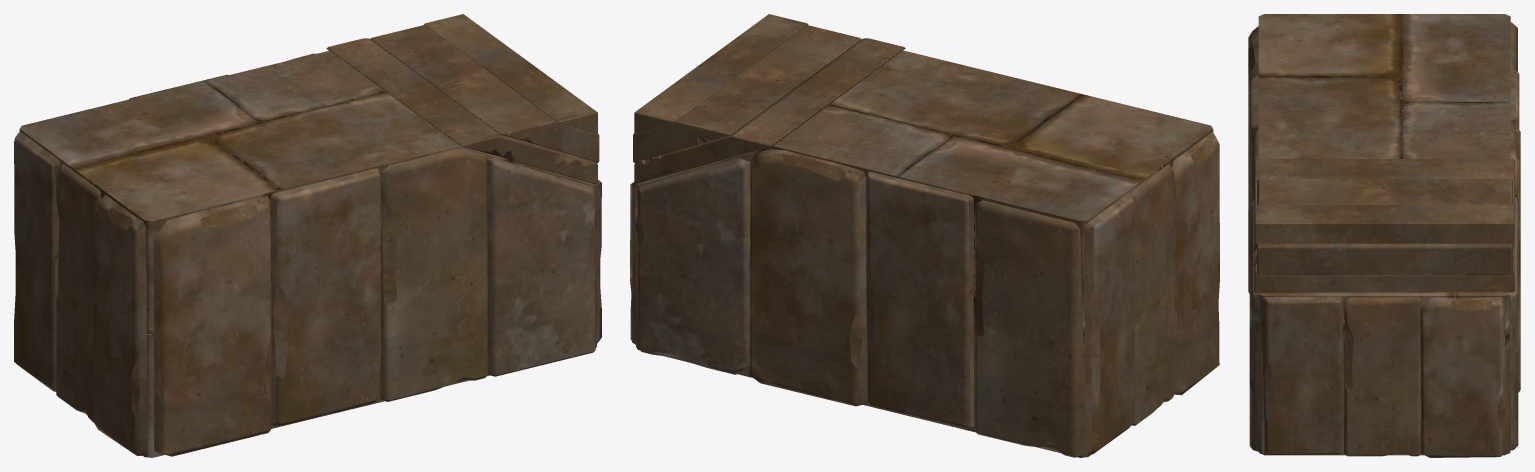
The picture shows the model from 3 angles, left to right: view 1: azimuth 30°, elevation 25°; view 2: azimuth 150°, elevation 25°; view 3: azimuth 270°, elevation 25°; orthographic projection. The views are drawn at different scales.
Visible parts, largest first — view 1: SM_Vault_2m_Stairs_Base_01_LOD0; view 2: SM_Vault_2m_Stairs_Base_01_LOD0; view 3: SM_Vault_2m_Stairs_Base_01_LOD0.
Part boxes in pixels (x1,y1,x2,y2): SM_Vault_2m_Stairs_Base_01_LOD0: (14,14,601,457); SM_Vault_2m_Stairs_Base_01_LOD0: (630,14,1219,457); SM_Vault_2m_Stairs_Base_01_LOD0: (1248,14,1520,457).
Bounding box in the file's own units: 4.16 × 2.02 × 2.16.
2 materials, 2 textured.
